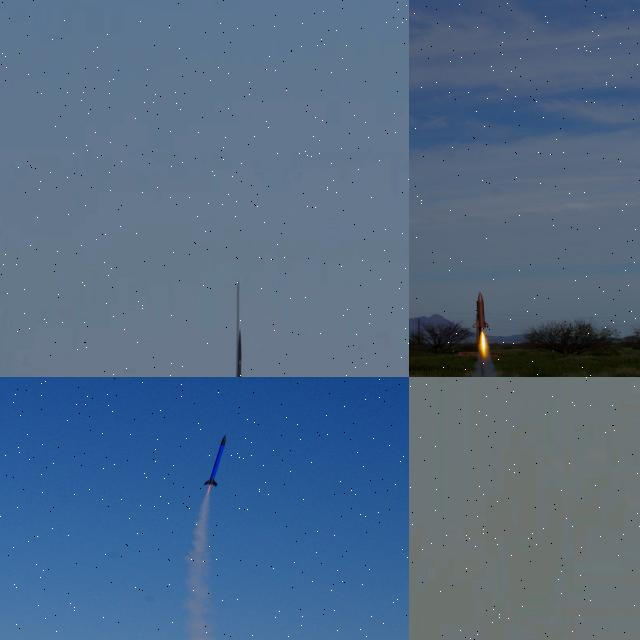Rocket: (204, 434, 226, 488), (472, 291, 490, 329), (234, 328, 244, 377)
